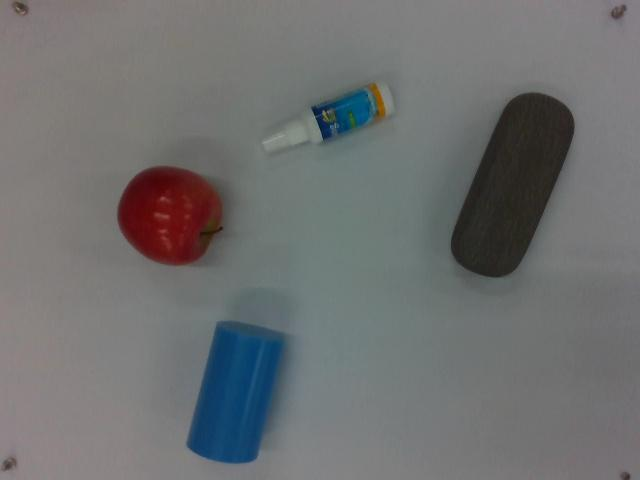apple: (118, 163, 225, 269)
cylinder: (184, 317, 288, 468)
detergent: (261, 75, 395, 161)
glassescase: (450, 85, 573, 279)
